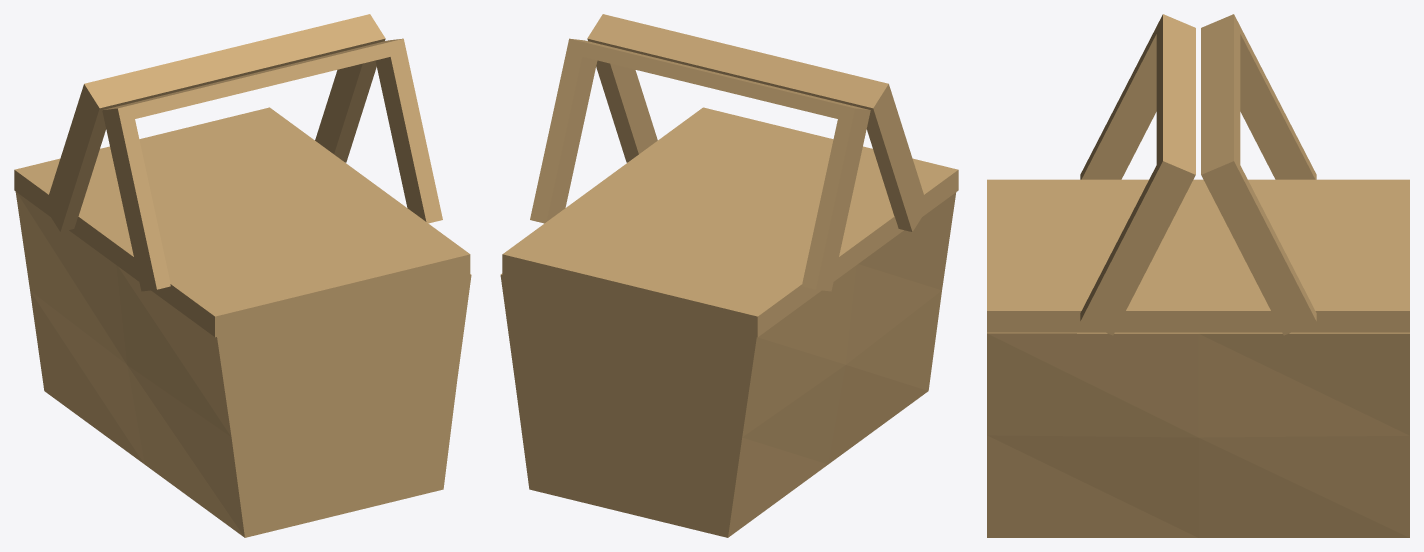
File: basket 1.fbx
3 views of the same model, side by side, from view 1: azimuth 30°, elevation 25°; view 2: azimuth 150°, elevation 25°; view 3: azimuth 270°, elevation 25° (orthographic). The views are drawn at different scales.
Parts seen in each view (by area): view 1: basket; view 2: basket; view 3: basket.
Part boxes in pixels (x1=…): basket: x1=14, y1=14, x2=471, y2=537; basket: x1=500, y1=14, x2=958, y2=537; basket: x1=987, y1=14, x2=1409, y2=537.
Size of the model in its own units: 0.2531 by 0.3206 by 0.3076.
